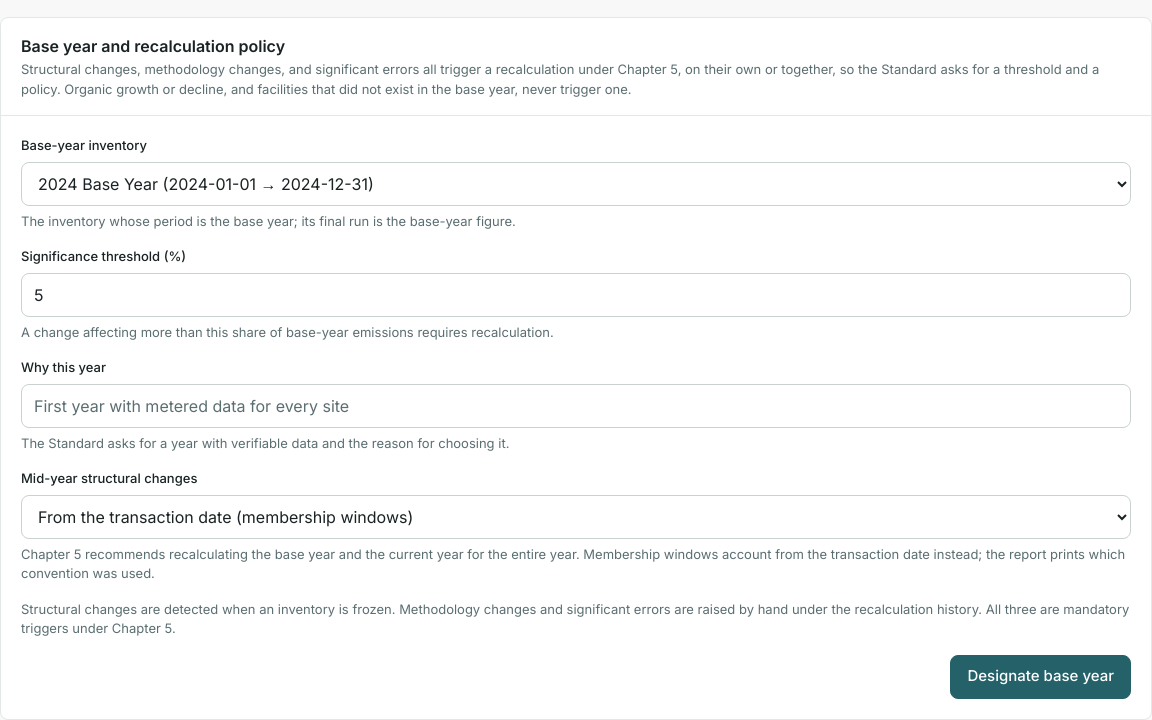
a base year with no reason is refused on the spot, in words
(page scrolled)
Click the button "Designate base year".
click(1041, 676)  # box [950,654,1131,698]
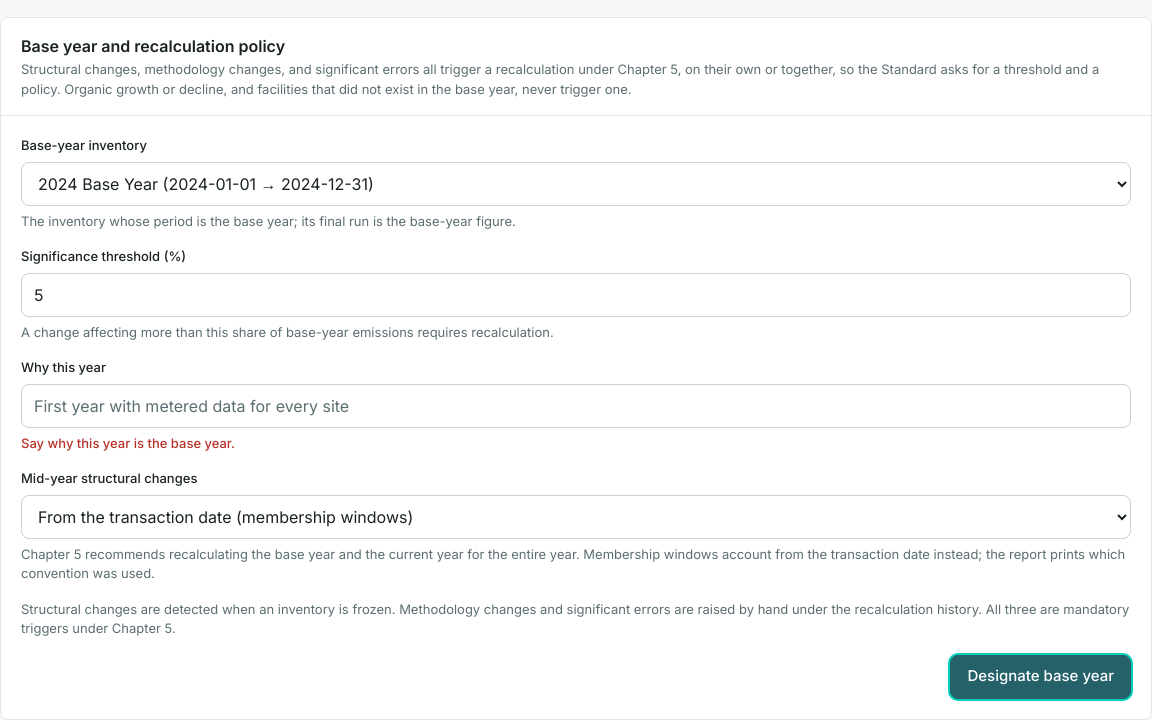
Expected: the text "Say why this year is the base year." is shown, [21,434,235,450]
